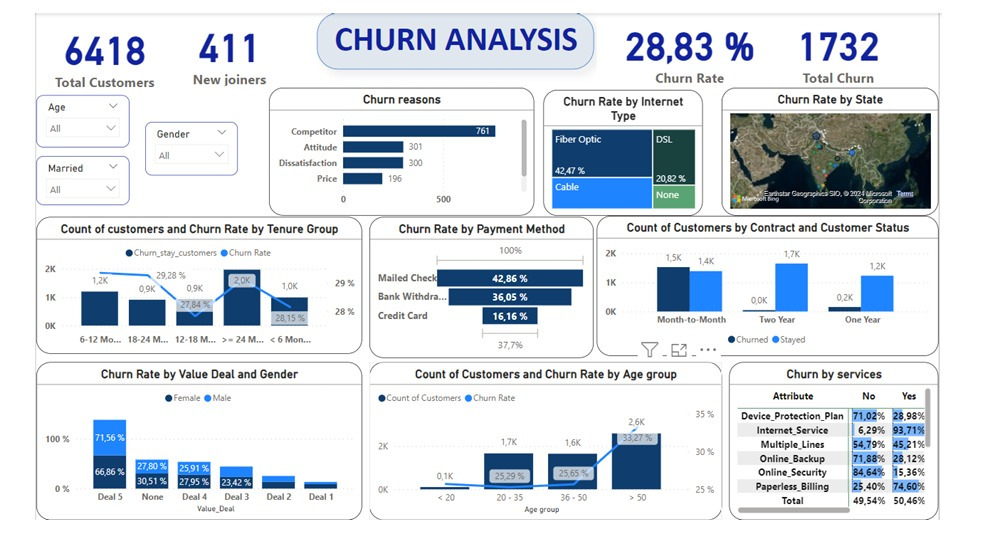

What the dashboard file says about the page in this screenshot:
{"tool":"powerbi","page":{"name":"Page 3","canvas":[1280,720],"ordinal":0},"visuals":[{"type":"textbox","box":[398.6,0,392.9,80],"z":0},{"type":"card","fields":{"Values":["my measures.Total Customers"]},"box":[0,0,193.3,116.7],"z":1000},{"type":"card","fields":{"Values":["my measures.Total Churn"]},"box":[1037.1,0,200,104.3],"z":2000},{"type":"card","fields":{"Values":["my measures.New joiners"]},"box":[171.7,0,205,108.3],"z":3000},{"type":"card","fields":{"Values":["my measures.Churn Rate"]},"box":[794.3,0,262.9,104.3],"z":4000},{"type":"slicer","fields":{"Values":["churn_stay.Age"]},"box":[0,116.6,131.7,74.2],"z":5000},{"type":"slicer","fields":{"Values":["churn_stay.Married"]},"box":[0,202.9,131.7,69.7],"z":6000},{"type":"funnel","title":"Churn Rate by Payment Method","fields":{"Category":["churn_stay.Payment_Method"],"Y":["my measures.Churn Rate"]},"box":[472.4,289.2,318,199.9],"z":7000},{"type":"slicer","fields":{"Values":["churn_stay.Gender"]},"box":[154.3,154.3,131.4,75.7],"z":8000},{"type":"columnChart","title":"Churn Rate by Value Deal and Gender","fields":{"Category":["churn_stay.Value_Deal"],"Y":["my measures.Churn Rate"],"Series":["churn_stay.Gender"]},"box":[0,495.1,461.8,224.1],"z":9000},{"type":"clusteredColumnChart","title":"Count of Customers by Contract and Customer Status","fields":{"Category":["churn_stay.Contract"],"Y":["CountNonNull(churn_stay.Customer_ID)"],"Series":["churn_stay.Customer_Status"]},"box":[795,287.7,484.5,198.4],"z":10000},{"type":"lineStackedColumnComboChart","title":"Count of customers and Churn Rate by Tenure Group ","fields":{"Category":["mapping_TenureGrp.Tenure Group "],"Y":["my measures.Churn_stay_customers"],"Y2":["my measures.Churn Rate"]},"box":[0,289.2,461.8,193.8],"z":11000},{"type":"lineClusteredColumnComboChart","fields":{"Category":["mapping age groups.Age group"],"Y":["my measures.Churn_stay_customers"],"Y2":["my measures.Churn Rate"]},"box":[472.4,495.1,499.7,224.1],"z":12000},{"type":"map","title":"Churn Rate by State","fields":{"Category":["churn_stay.State"],"Series":["churn_stay.State"],"Size":["my measures.Churn Rate"]},"box":[972.9,105.7,307.1,181.4],"z":13000},{"type":"pivotTable","title":"Churn by services","fields":{"Rows":["services.Services"],"Columns":["services.Status"],"Values":["Sum(services.Churn Status)"]},"box":[982.7,495.1,296.8,224.1],"z":14000},{"type":"clusteredBarChart","title":"Churn reasons ","fields":{"Y":["CountNonNull(churn_stay.Churn_Category)"],"Category":["churn_stay.Churn_Category"]},"box":[330,105.7,375.7,181.4],"z":15000},{"type":"treemap","title":"Churn Rate by Internet Type","fields":{"Group":["churn_stay.Internet_Type"],"Values":["my measures.Churn Rate"]},"box":[720,108.6,225.7,178.6],"z":16000}]}

Visuals, with their boxes in screenshot pixels (x1, y1, x2, y2), scaled from the page's 1280x720 canvas onto the 991x542 screenshot:
textbox: detection(309, 0, 613, 60)
card - my measures.Total Customers: detection(0, 0, 150, 88)
card - my measures.Total Churn: detection(803, 0, 958, 79)
card - my measures.New joiners: detection(133, 0, 292, 82)
card - my measures.Churn Rate: detection(615, 0, 819, 79)
slicer - churn_stay.Age: detection(0, 88, 102, 144)
slicer - churn_stay.Married: detection(0, 153, 102, 205)
"Churn Rate by Payment Method" funnel: detection(366, 218, 612, 368)
slicer - churn_stay.Gender: detection(119, 116, 221, 173)
"Churn Rate by Value Deal and Gender" columnChart: detection(0, 373, 358, 541)
"Count of Customers by Contract and Customer Status" clusteredColumnChart: detection(616, 217, 990, 366)
"Count of customers and Churn Rate by Tenure Group " lineStackedColumnComboChart: detection(0, 218, 358, 364)
lineClusteredColumnComboChart - mapping age groups.Age group x my measures.Churn_stay_customers: detection(366, 373, 753, 541)
"Churn Rate by State" map: detection(753, 80, 990, 216)
"Churn by services" pivotTable: detection(761, 373, 990, 541)
"Churn reasons " clusteredBarChart: detection(255, 80, 546, 216)
"Churn Rate by Internet Type" treemap: detection(557, 82, 732, 216)
